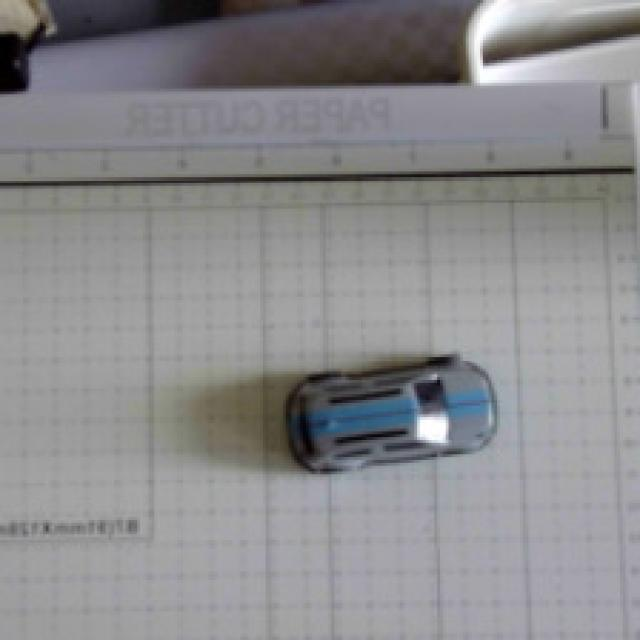Grey Car: (254, 288, 557, 548)
